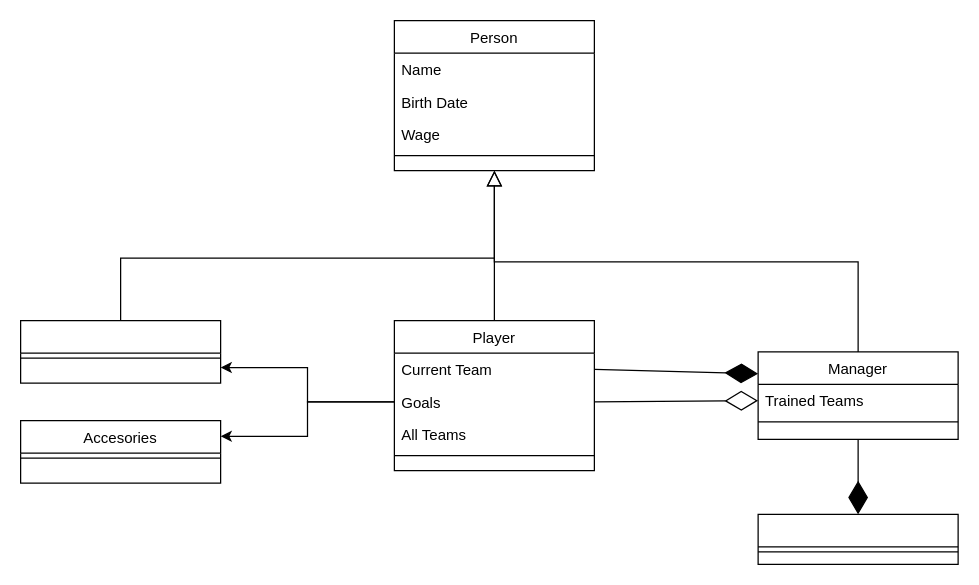
This 979x585 diagram has some shape labels left out. Here are the shapes that lost their labels. From the top down, the centre of each, then its label:
At [120,351]: "Supporter".
At [857,538]: "Team Project".
